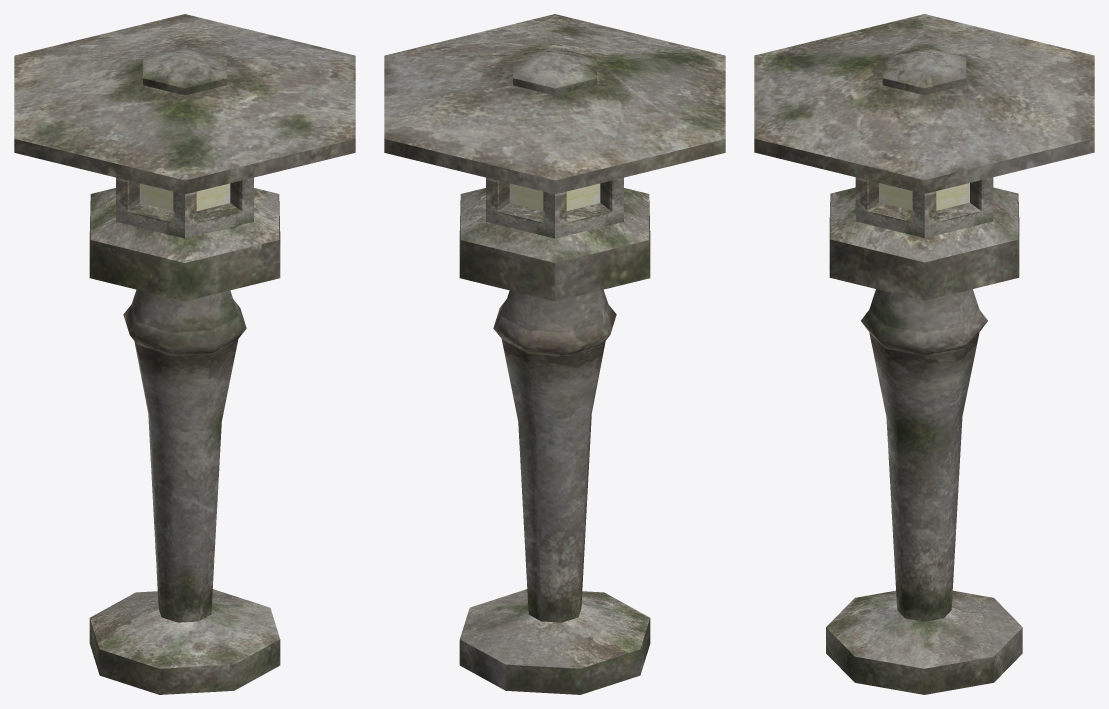
File: Lanterns01.fbx
3 renders of one model, left to right at view 1: azimuth 30°, elevation 25°; view 2: azimuth 150°, elevation 25°; view 3: azimuth 270°, elevation 25°, orthographic.
Visible parts, largest first — view 1: Lanterns01; view 2: Lanterns01; view 3: Lanterns01.
Boxes of the visible parts, x1=… form: Lanterns01: x1=14, y1=14, x2=355, y2=694; Lanterns01: x1=384, y1=14, x2=725, y2=694; Lanterns01: x1=754, y1=14, x2=1094, y2=694.
Size of the model in its own units: 100 by 168 by 86.6.
